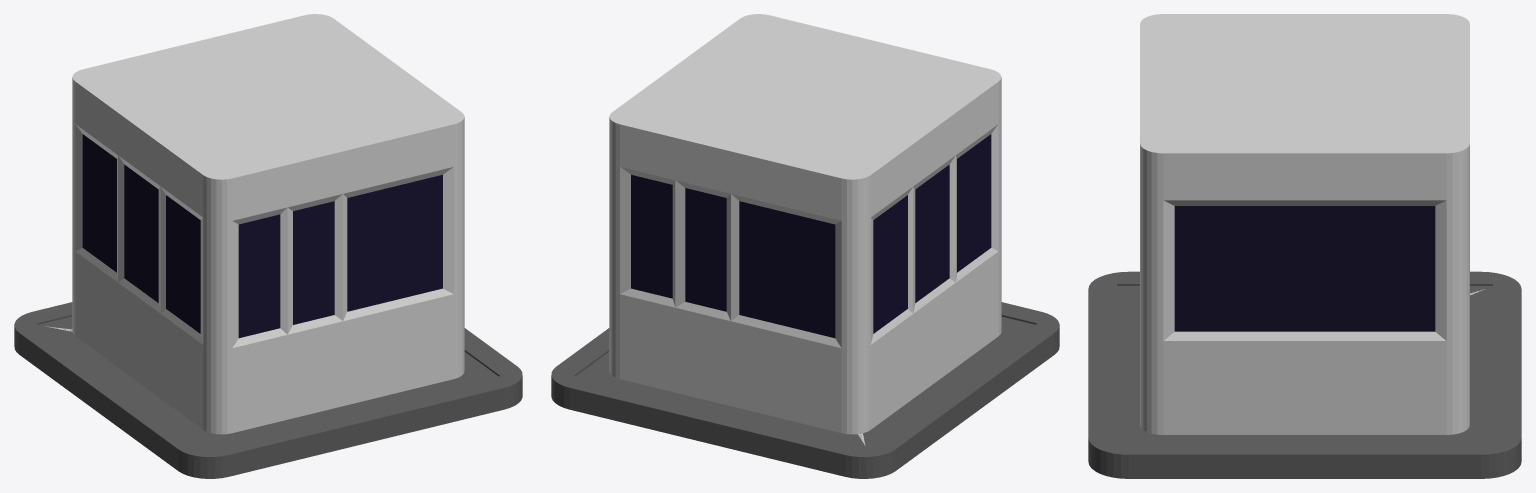
The model's file is tollBox.fbx.
The picture shows the model from 3 angles, left to right: view 1: azimuth 30°, elevation 25°; view 2: azimuth 150°, elevation 25°; view 3: azimuth 270°, elevation 25°; orthographic projection. The views are drawn at different scales.
Visible parts, largest first — view 1: Cube; view 2: Cube; view 3: Cube.
Part boxes in pixels (box(x1,y1,x2,y2)): Cube: box(14, 14, 522, 478); Cube: box(551, 14, 1059, 478); Cube: box(1088, 14, 1521, 478).
Bounding box in the file's own units: 295 × 228 × 295.
